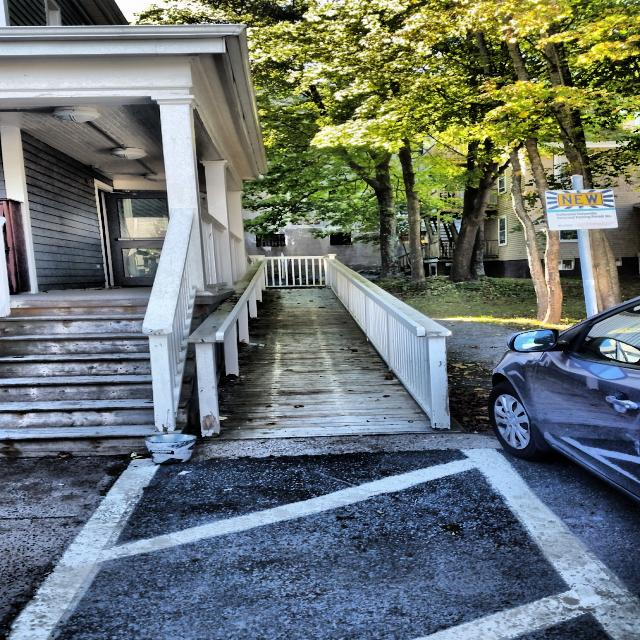escada: (0, 302, 153, 456)
